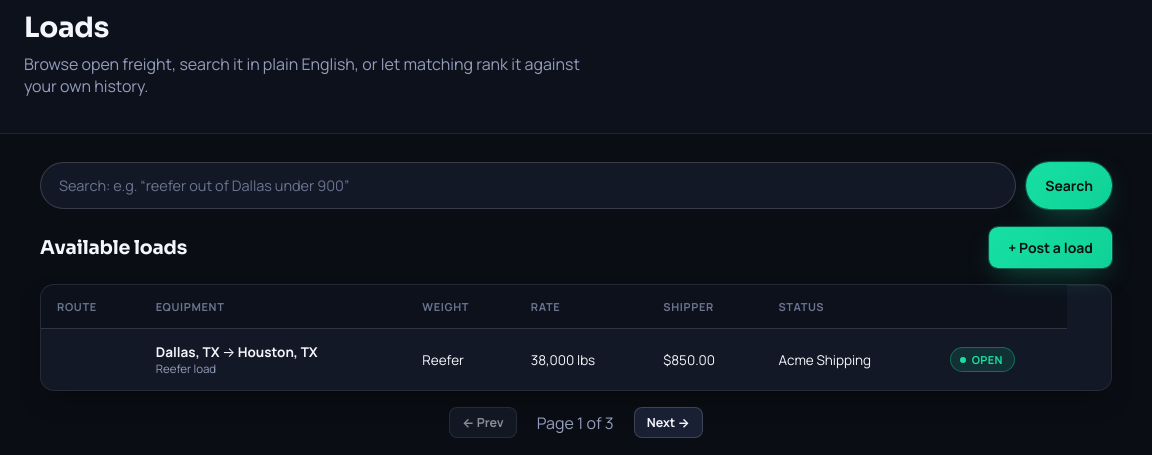
it: LoadsPage — pagination › hides pagination controls while a search is active
The width and height of the screenshot is (1152, 455).
Expected: the text "Page 1 of 3" is shown, x1=537 y1=412 x2=614 y2=434
Type "reefer" into the field with placeholder "Search: e.g. “reefer out of Dallas under 900”" at (528, 186), box x1=40 y1=162 x2=1016 y2=209
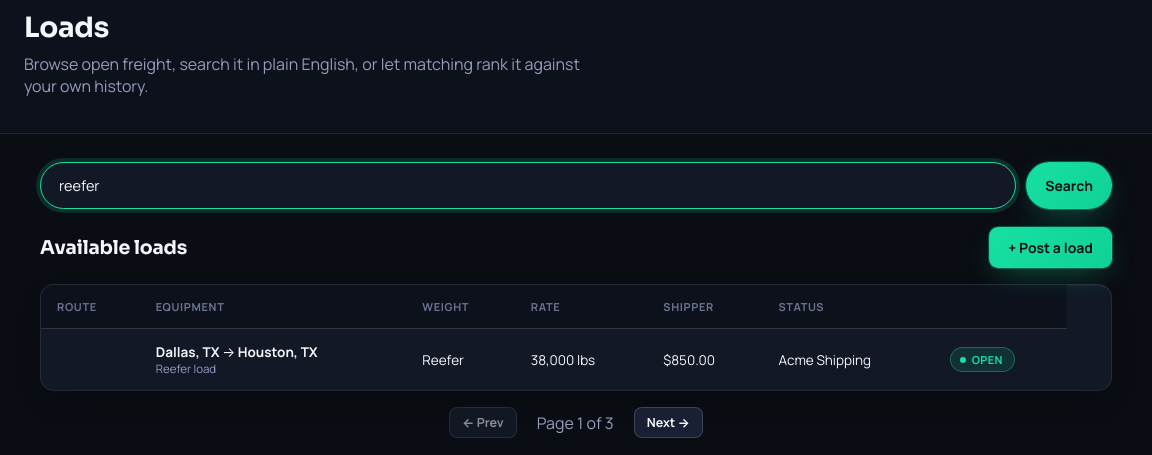
Click the button "Search" at (1069, 186), box x1=1026 y1=162 x2=1112 y2=209
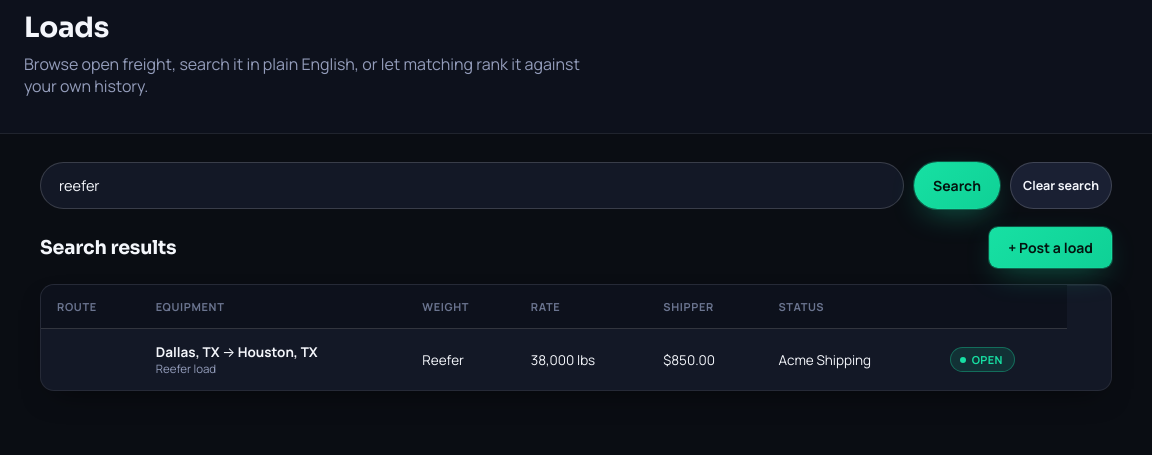
Now the heading "Search results" is shown, box x1=40 y1=236 x2=176 y2=260
Now the button "Next" is gone
Now the button "Prev" is gone
